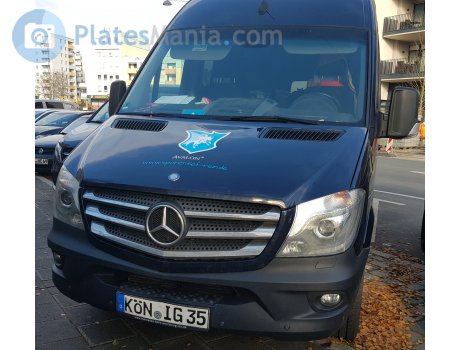License Plates: (119, 294, 211, 328)
